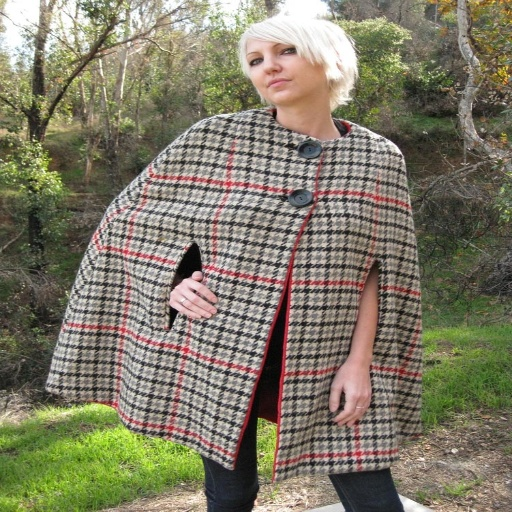hand: (327, 359, 374, 430), (167, 267, 220, 320)
